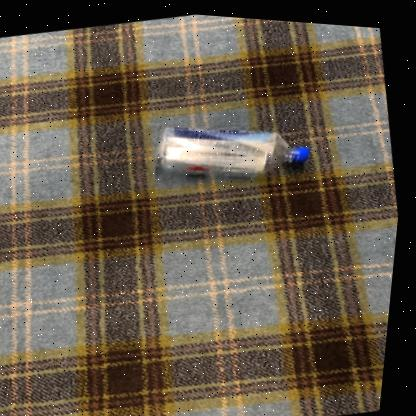Plastic: (156, 123, 311, 170)
